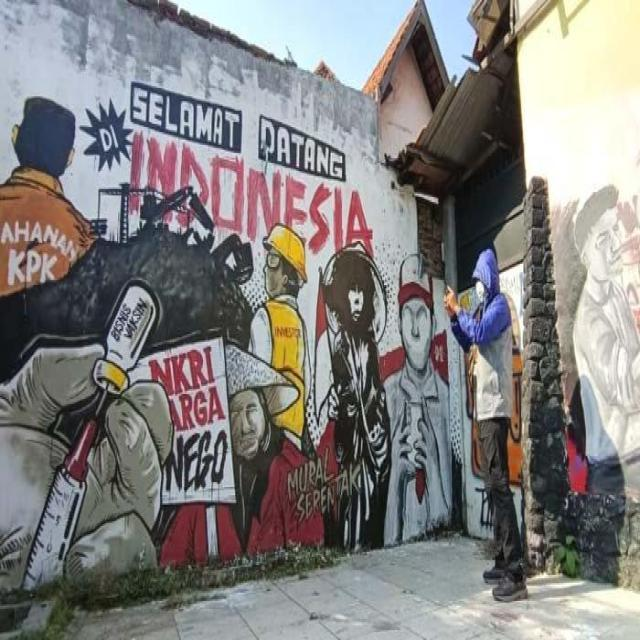-: (0, 82, 453, 580), (573, 182, 640, 458)
